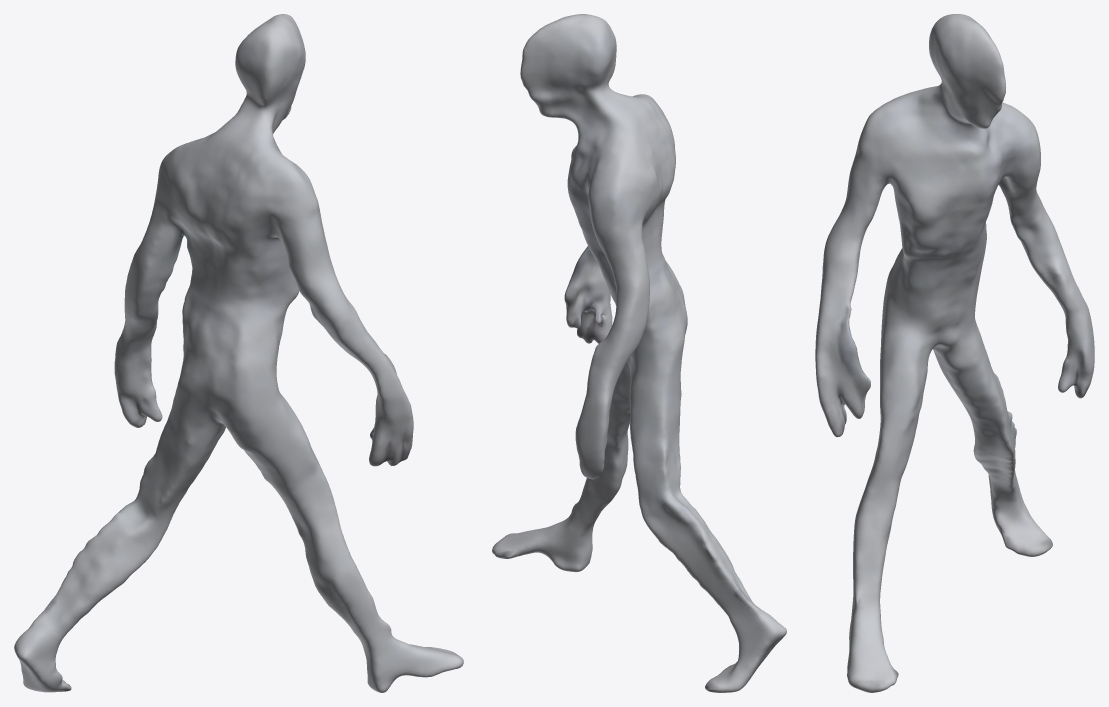
Rendered from 61c607d88542_human_with_motion__.fbx.
The picture shows the model from 3 angles, left to right: view 1: azimuth 30°, elevation 25°; view 2: azimuth 150°, elevation 25°; view 3: azimuth 270°, elevation 25°; orthographic projection. The views are drawn at different scales.
Visible parts, largest first — view 1: high_poly; view 2: high_poly; view 3: high_poly.
Part boxes in pixels (box(x1,y1,x2,y2)): high_poly: box(14, 14, 463, 692); high_poly: box(492, 14, 786, 692); high_poly: box(815, 14, 1094, 692).
Size of the model in its own units: 60.48 by 100 by 40.72.
